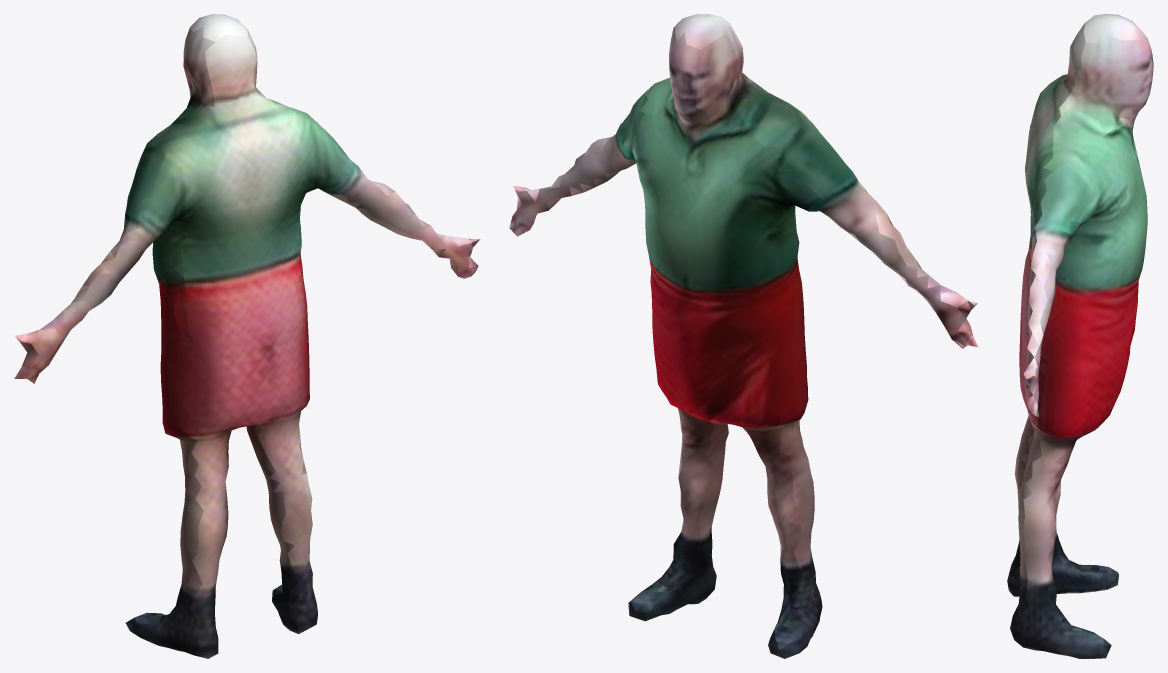
3 views of the same model, side by side, from view 1: azimuth 30°, elevation 25°; view 2: azimuth 150°, elevation 25°; view 3: azimuth 270°, elevation 25° (orthographic). The views are drawn at different scales.
Parts seen in each view (by area): view 1: world; view 2: world; view 3: world.
Boxes of the visible parts, x1,y1,x2,y2 form: world: (14, 14, 480, 658); world: (509, 14, 978, 658); world: (1007, 14, 1153, 658).
Size of the model in its own units: 0.8045 by 1 by 0.2196.
1 material, 1 textured.
